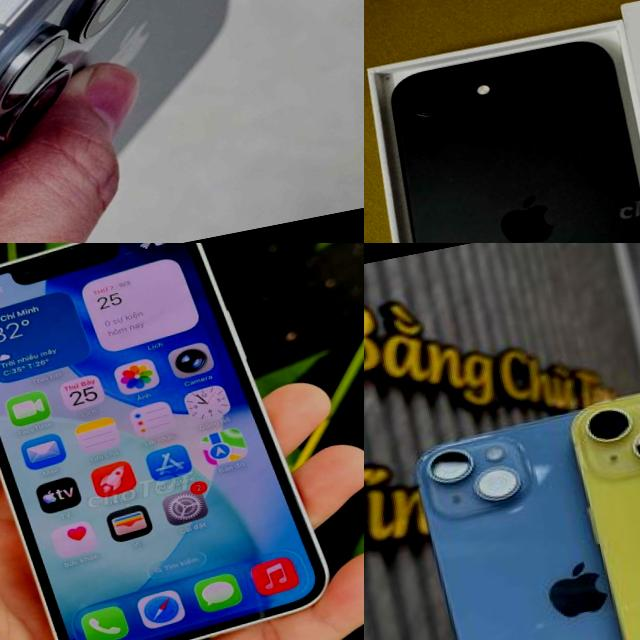gen_11: (564, 342, 640, 640)
gen_12_13: (0, 243, 345, 640)
gen_15: (0, 0, 336, 213)
gen_16: (392, 42, 640, 243)
